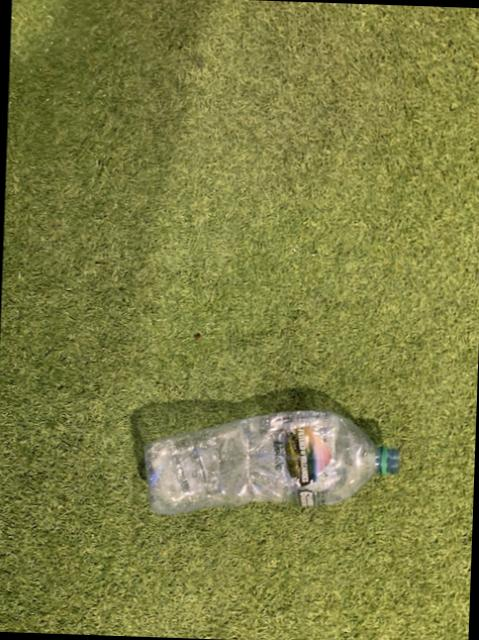plastic: (145, 412, 400, 516)
